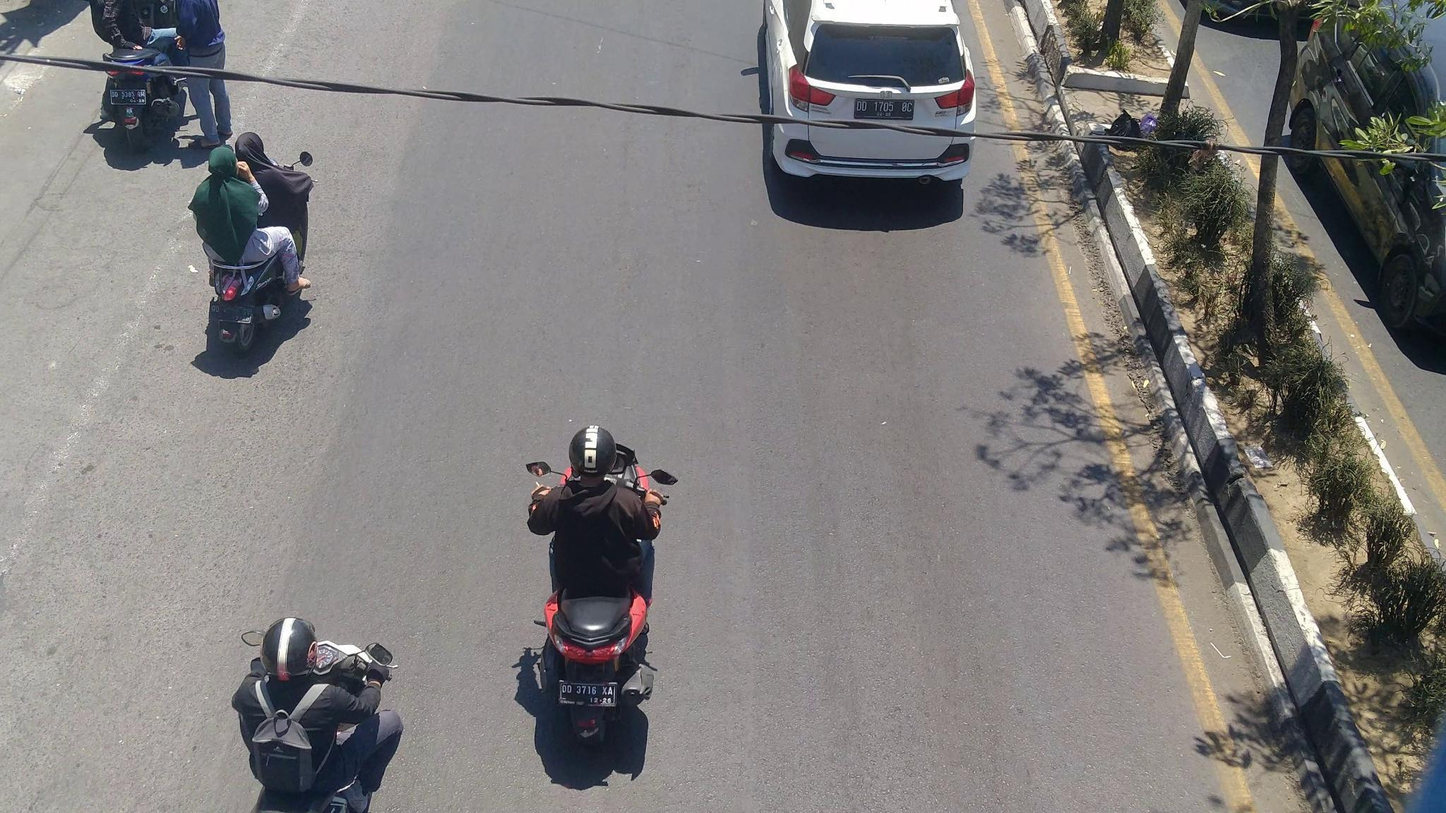Helmet: (250, 608, 324, 685), (562, 415, 621, 491)
bike: (524, 437, 677, 750), (238, 627, 393, 813), (192, 150, 317, 362)
no-helmet: (199, 140, 251, 185), (231, 130, 272, 168)
number-plate: (555, 678, 617, 711)
rider: (231, 614, 402, 804), (524, 420, 665, 598), (191, 140, 313, 294), (226, 130, 315, 248)
